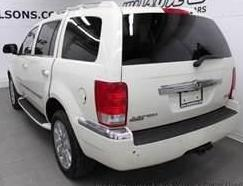back_view: (92, 61, 239, 152)
backlight: (96, 80, 134, 134)
side_glass: (23, 24, 58, 58)
